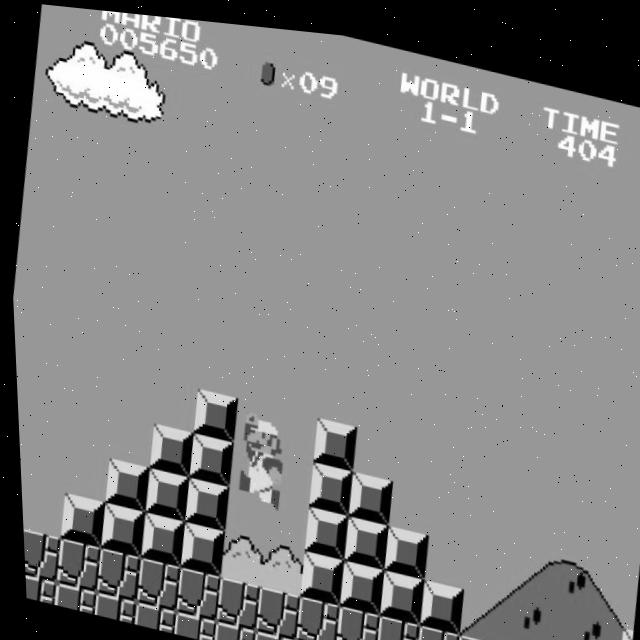17- undestructible_block: (49, 537, 98, 592), (89, 546, 138, 601), (129, 554, 178, 609), (169, 563, 218, 618), (208, 572, 257, 627), (248, 581, 297, 635), (288, 589, 337, 640), (18, 529, 58, 583), (328, 599, 377, 640), (368, 607, 417, 640), (87, 590, 132, 622), (127, 599, 172, 631), (167, 608, 212, 640), (48, 582, 93, 613), (407, 616, 456, 640), (207, 617, 252, 640), (20, 574, 52, 605), (447, 625, 495, 640), (247, 626, 292, 640), (487, 633, 535, 640), (286, 635, 331, 640)
4- fire_mario: (227, 402, 287, 506)
9- hard_block: (54, 492, 103, 547), (94, 501, 143, 556), (138, 465, 187, 520), (133, 509, 182, 564), (188, 384, 237, 439), (178, 474, 227, 529), (307, 410, 356, 465), (293, 544, 342, 599), (332, 553, 381, 608), (377, 517, 426, 572), (412, 571, 461, 626), (183, 429, 232, 483), (342, 464, 391, 518), (337, 509, 386, 563), (99, 456, 147, 511), (174, 518, 222, 573), (298, 500, 346, 555), (373, 562, 421, 617), (143, 421, 192, 474), (303, 455, 351, 509), (611, 614, 629, 640)
